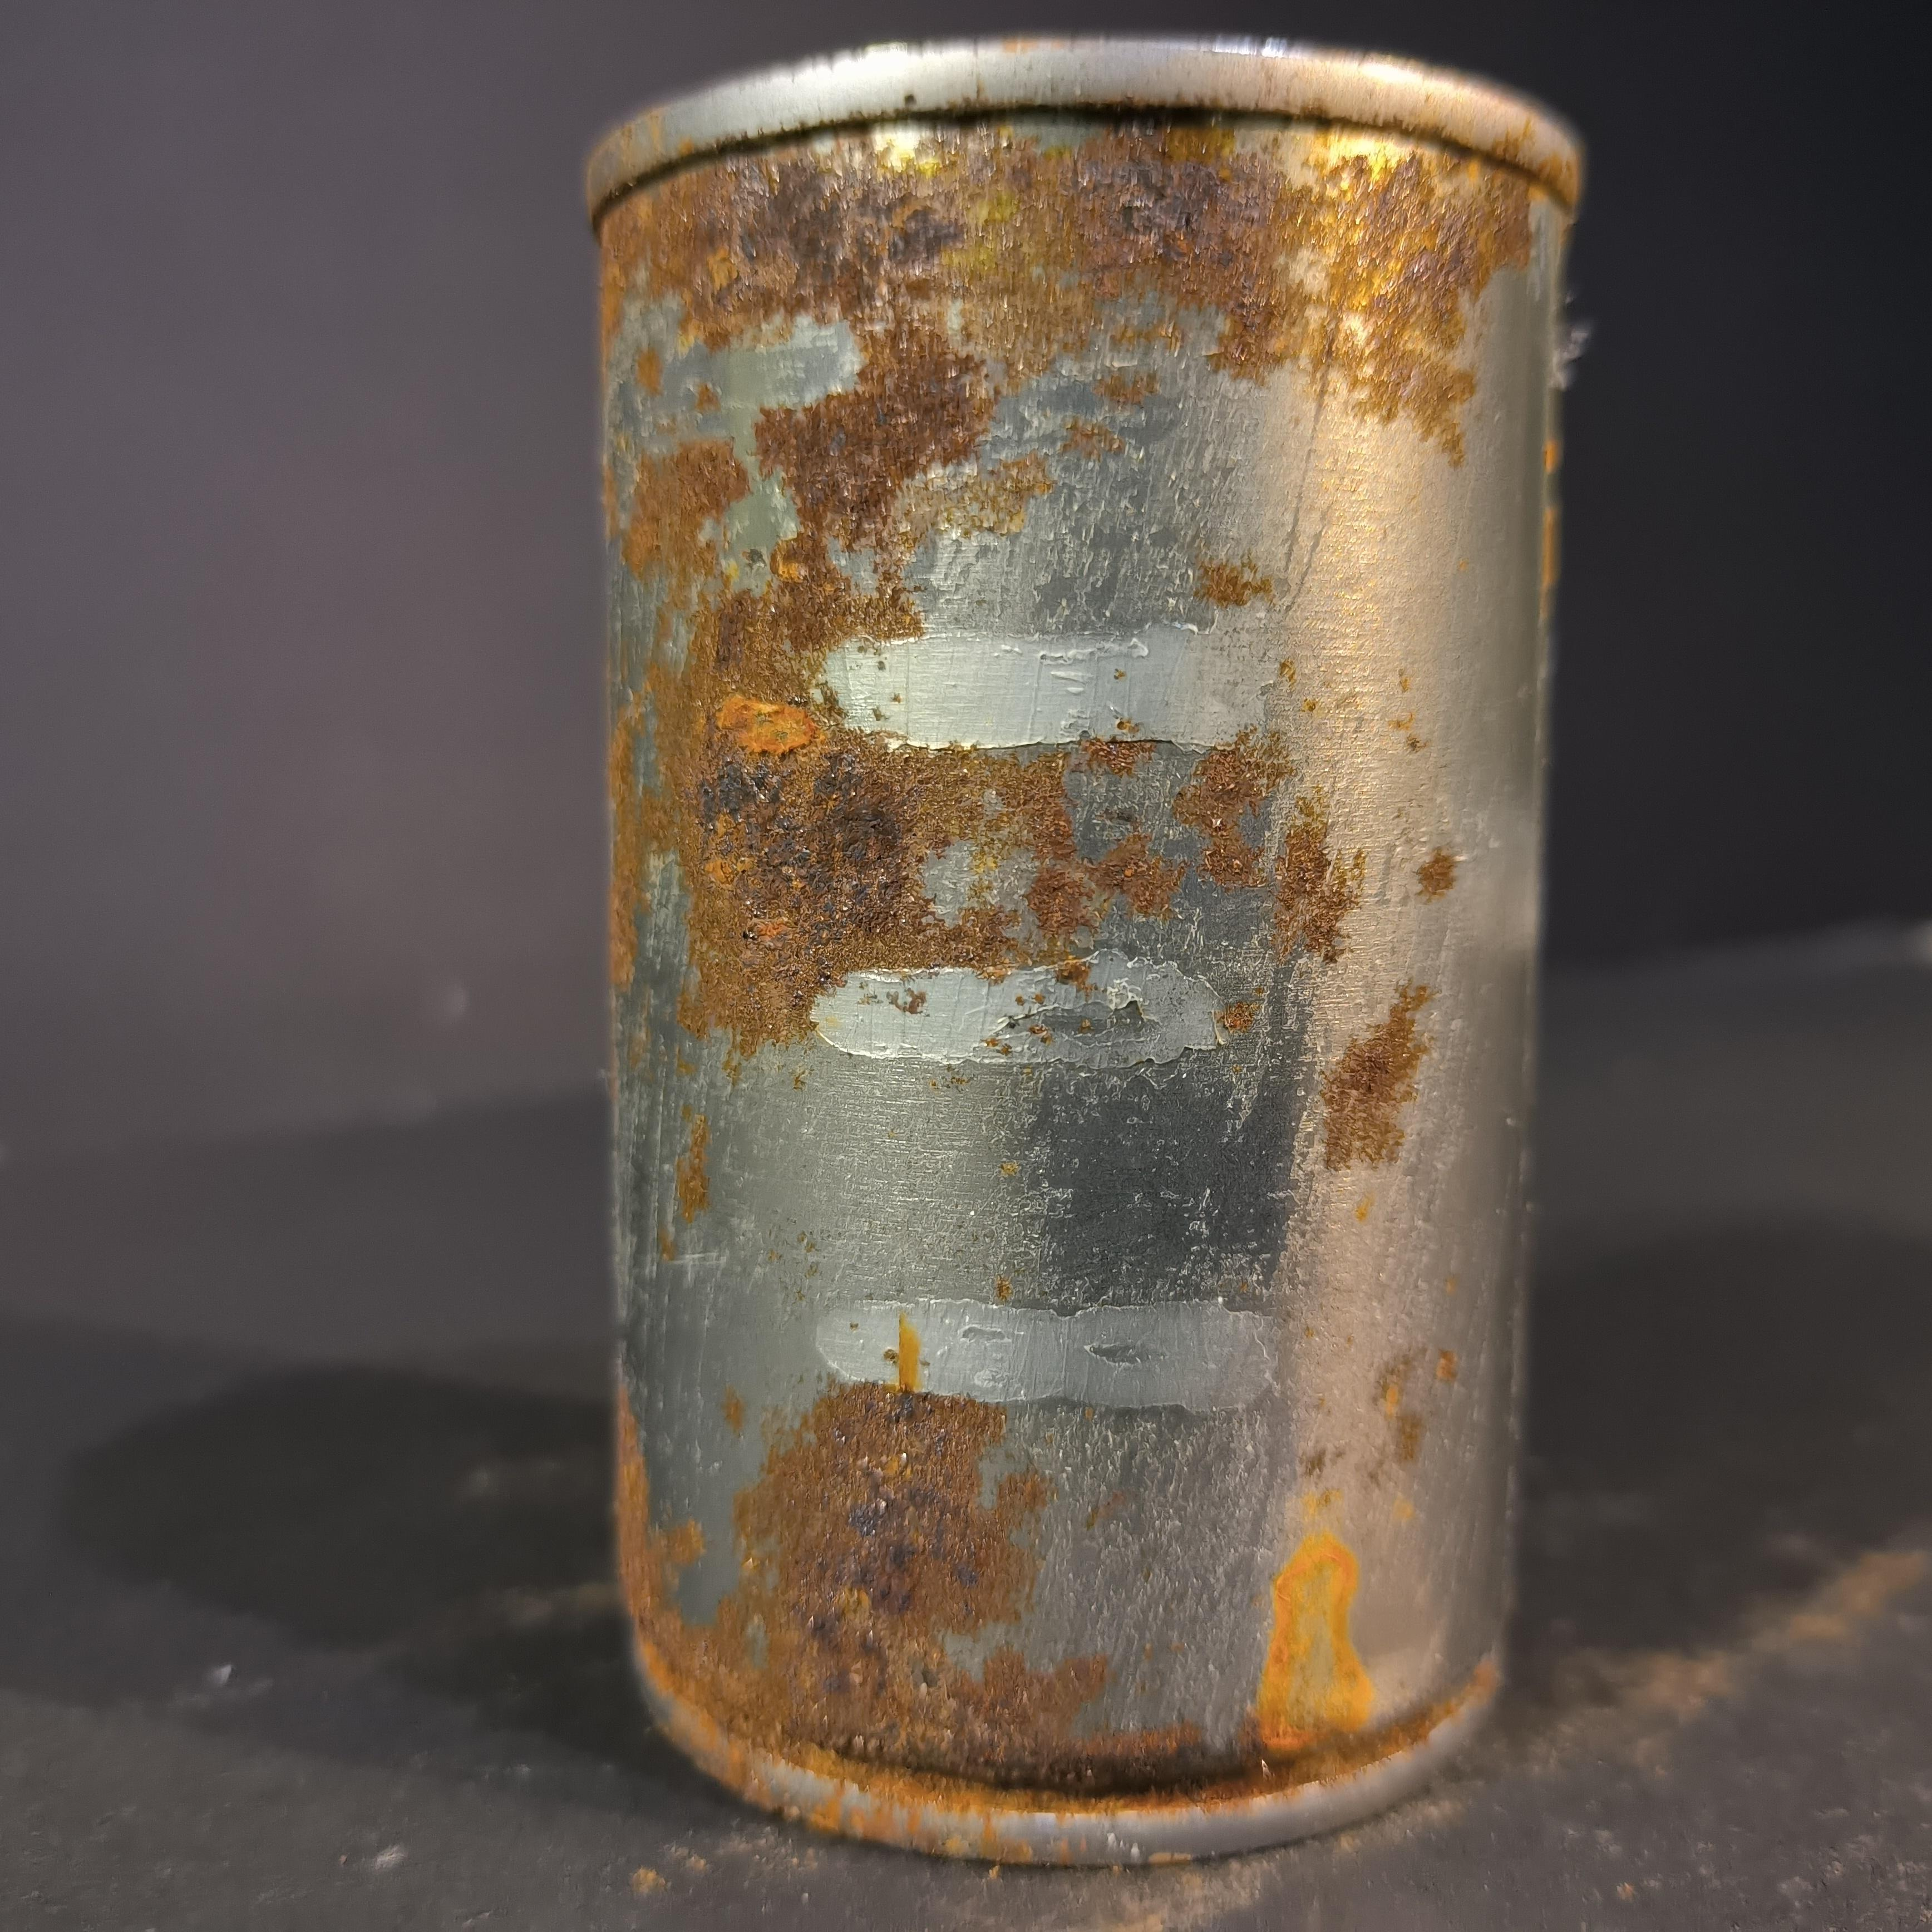Rusted: (543, 23, 1622, 1900)
